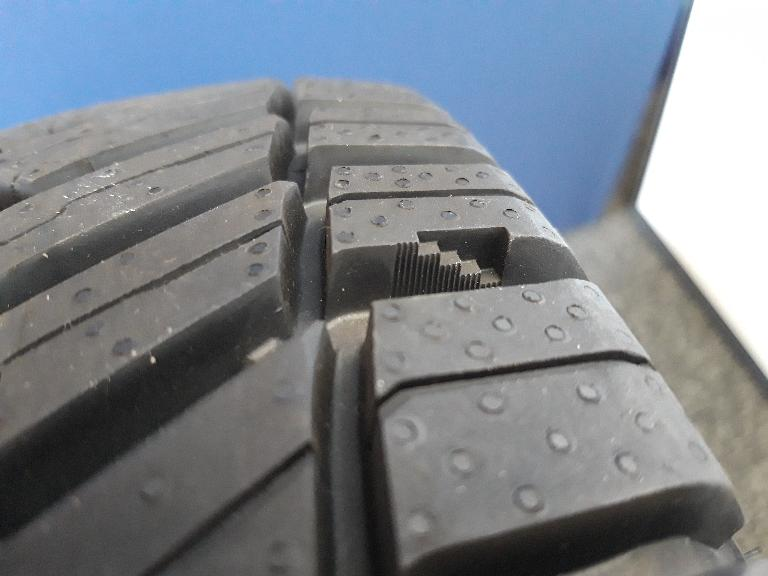temoin:100: (385, 222, 519, 305)
